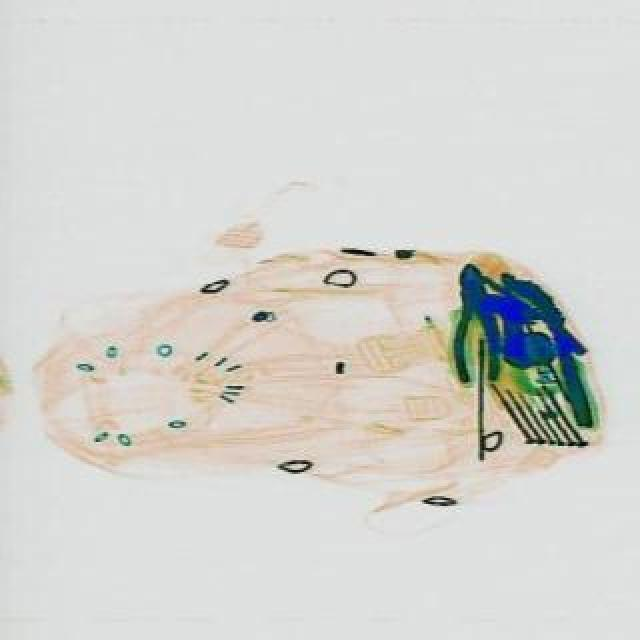wrench: (444, 260, 500, 384)
